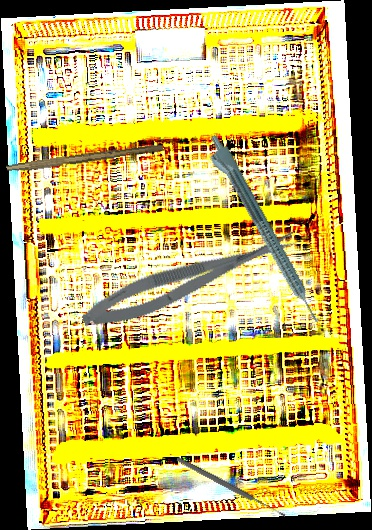Handpiece: (199, 132, 324, 330)
Micro Scissor: (76, 223, 303, 337)
Scalpel Handle: (6, 140, 164, 177)
Surgical Spoon: (175, 455, 287, 520)
